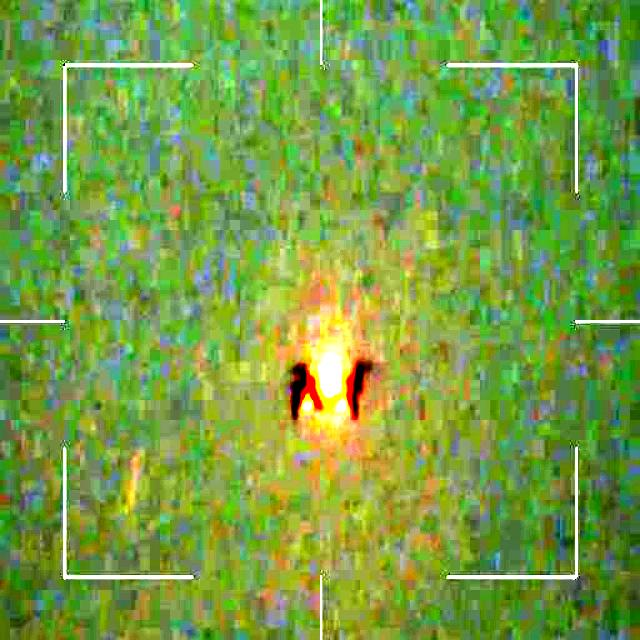bird: (285, 340, 372, 421)
